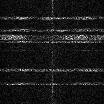wifi: (1, 34, 104, 43), (1, 16, 104, 19), (1, 28, 104, 31), (1, 68, 104, 71), (1, 82, 104, 85)
